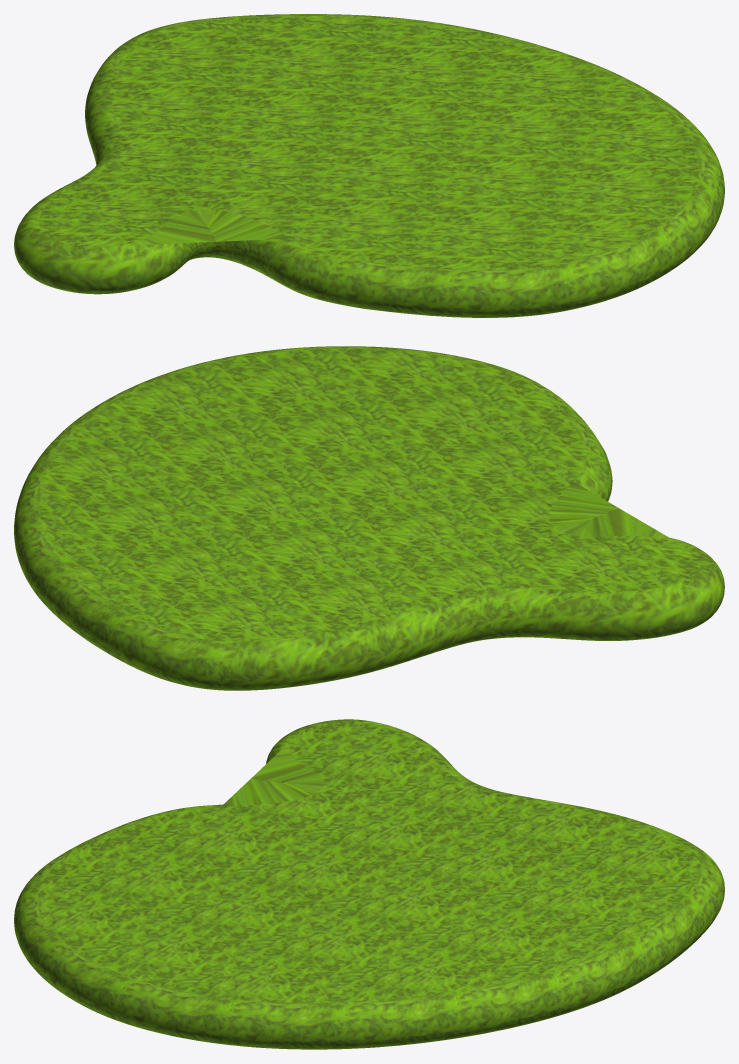
The model's file is GrassBase1.fbx.
3 views of the same model, one above another, from view 1: azimuth 30°, elevation 25°; view 2: azimuth 150°, elevation 25°; view 3: azimuth 270°, elevation 25° (orthographic). The views are drawn at different scales.
Parts seen in each view (by area): view 1: Cylinder.001; view 2: Cylinder.001; view 3: Cylinder.001.
Boxes of the visible parts, x1,y1,x2,y2 form: Cylinder.001: [14, 14, 724, 317]; Cylinder.001: [14, 346, 724, 690]; Cylinder.001: [14, 719, 724, 1049].
Bounding box in the file's own units: 1219 × 82.99 × 1211.
